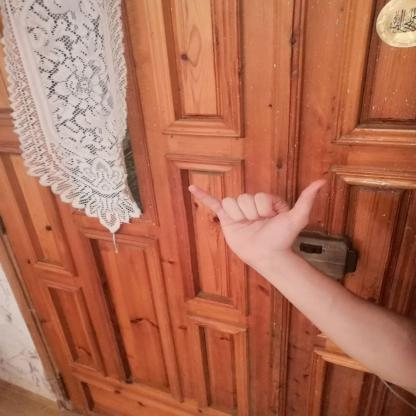YA: (173, 171, 341, 271)
